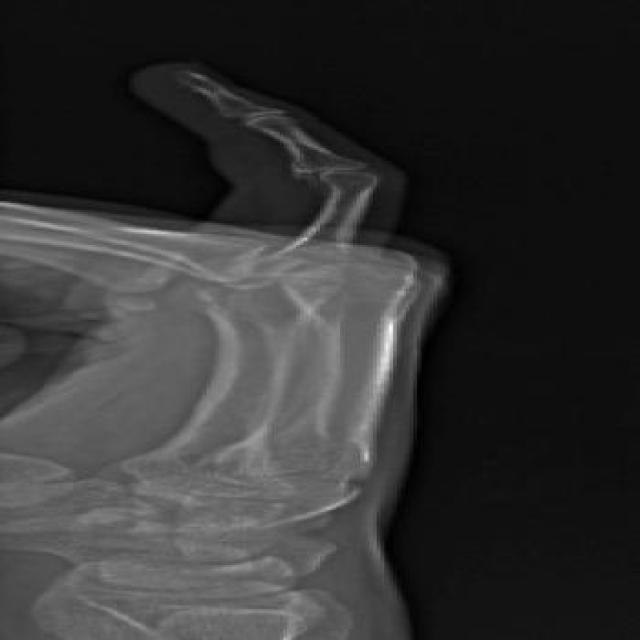Fracture: (280, 159, 374, 186)
